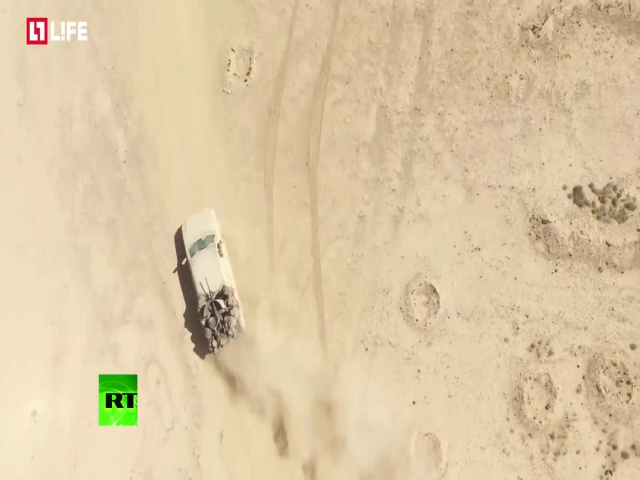vehicle: (175, 208, 247, 354)
